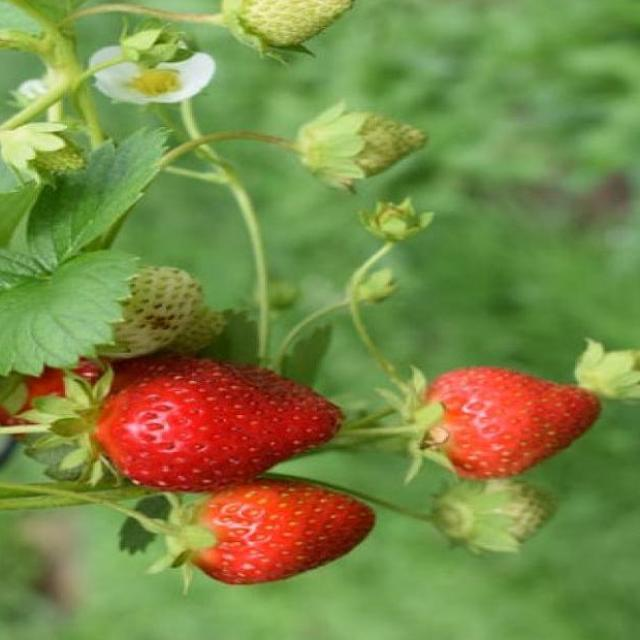Healthy Fruit: (89, 353, 344, 492), (415, 364, 601, 481), (183, 478, 376, 586)
